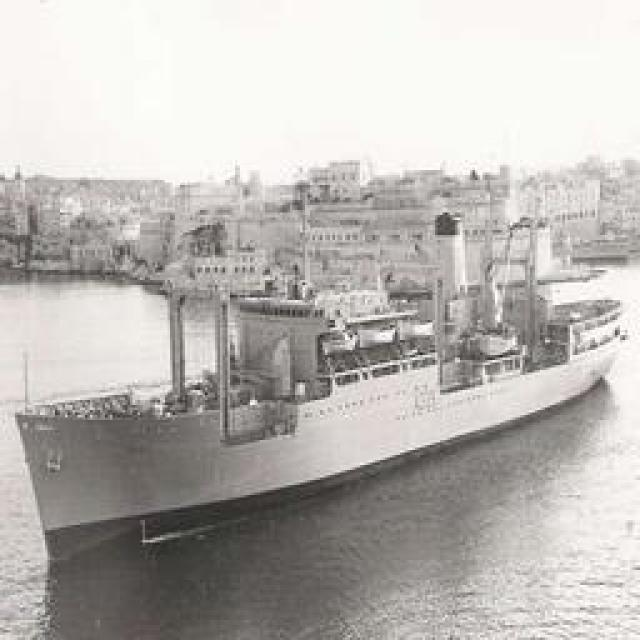Ship: (21, 235, 624, 560)
